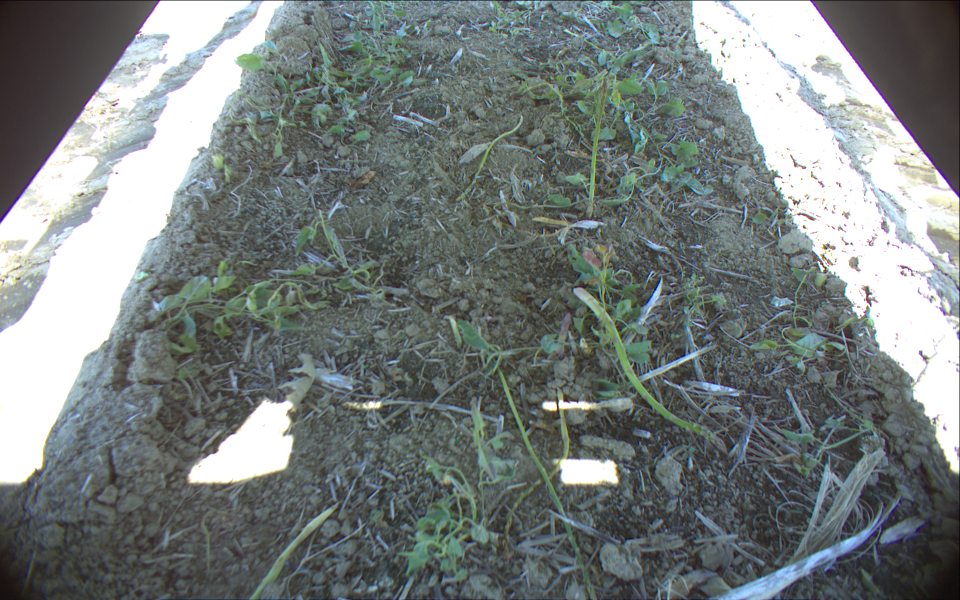aspa: (582, 75, 610, 221)
